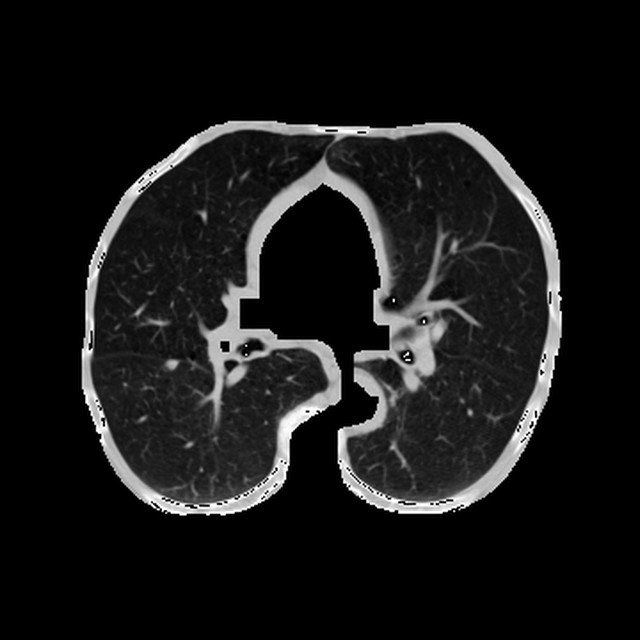PN: (164, 357, 178, 372)
